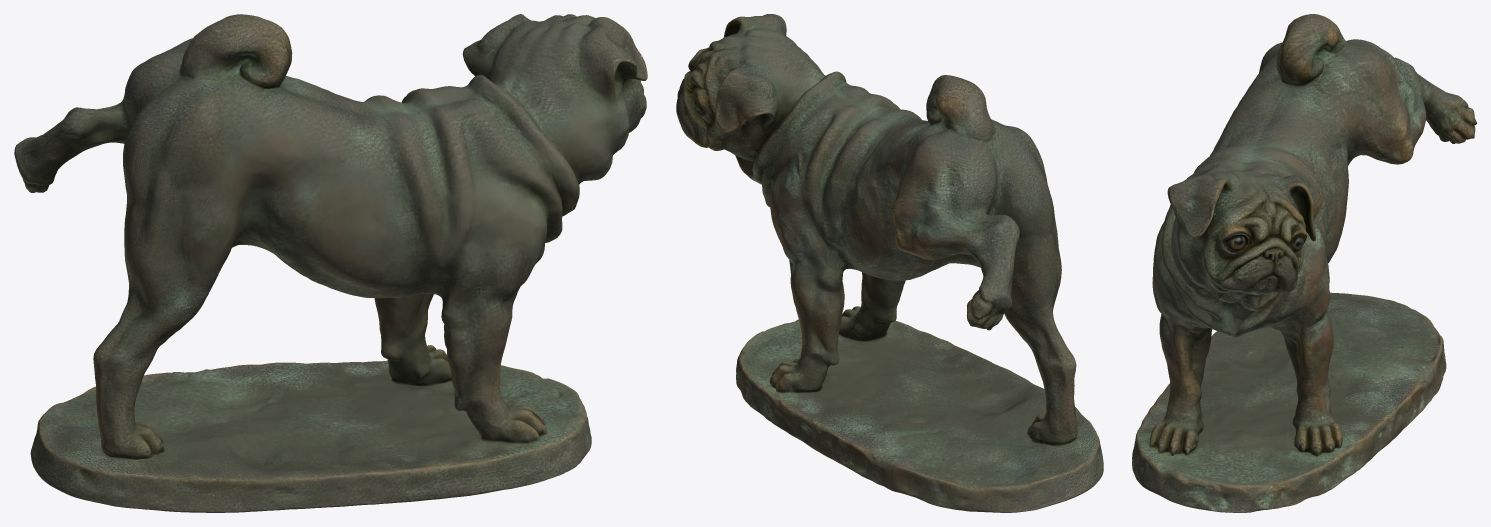
File: oy_pug.glb
The picture shows the model from 3 angles, left to right: view 1: azimuth 30°, elevation 25°; view 2: azimuth 150°, elevation 25°; view 3: azimuth 270°, elevation 25°; orthographic projection. The views are drawn at different scales.
Parts seen in each view (by area): view 1: tripo_node_bf12b80d-5704-49a0-9936-776415675edc; view 2: tripo_node_bf12b80d-5704-49a0-9936-776415675edc; view 3: tripo_node_bf12b80d-5704-49a0-9936-776415675edc.
Part boxes in pixels (x1,y1,x2,y2): tripo_node_bf12b80d-5704-49a0-9936-776415675edc: (14,14,647,512); tripo_node_bf12b80d-5704-49a0-9936-776415675edc: (676,14,1103,512); tripo_node_bf12b80d-5704-49a0-9936-776415675edc: (1132,14,1476,512).
Size of the model in its own units: 1 by 0.7742 by 0.6474.
1 material, 1 textured.
